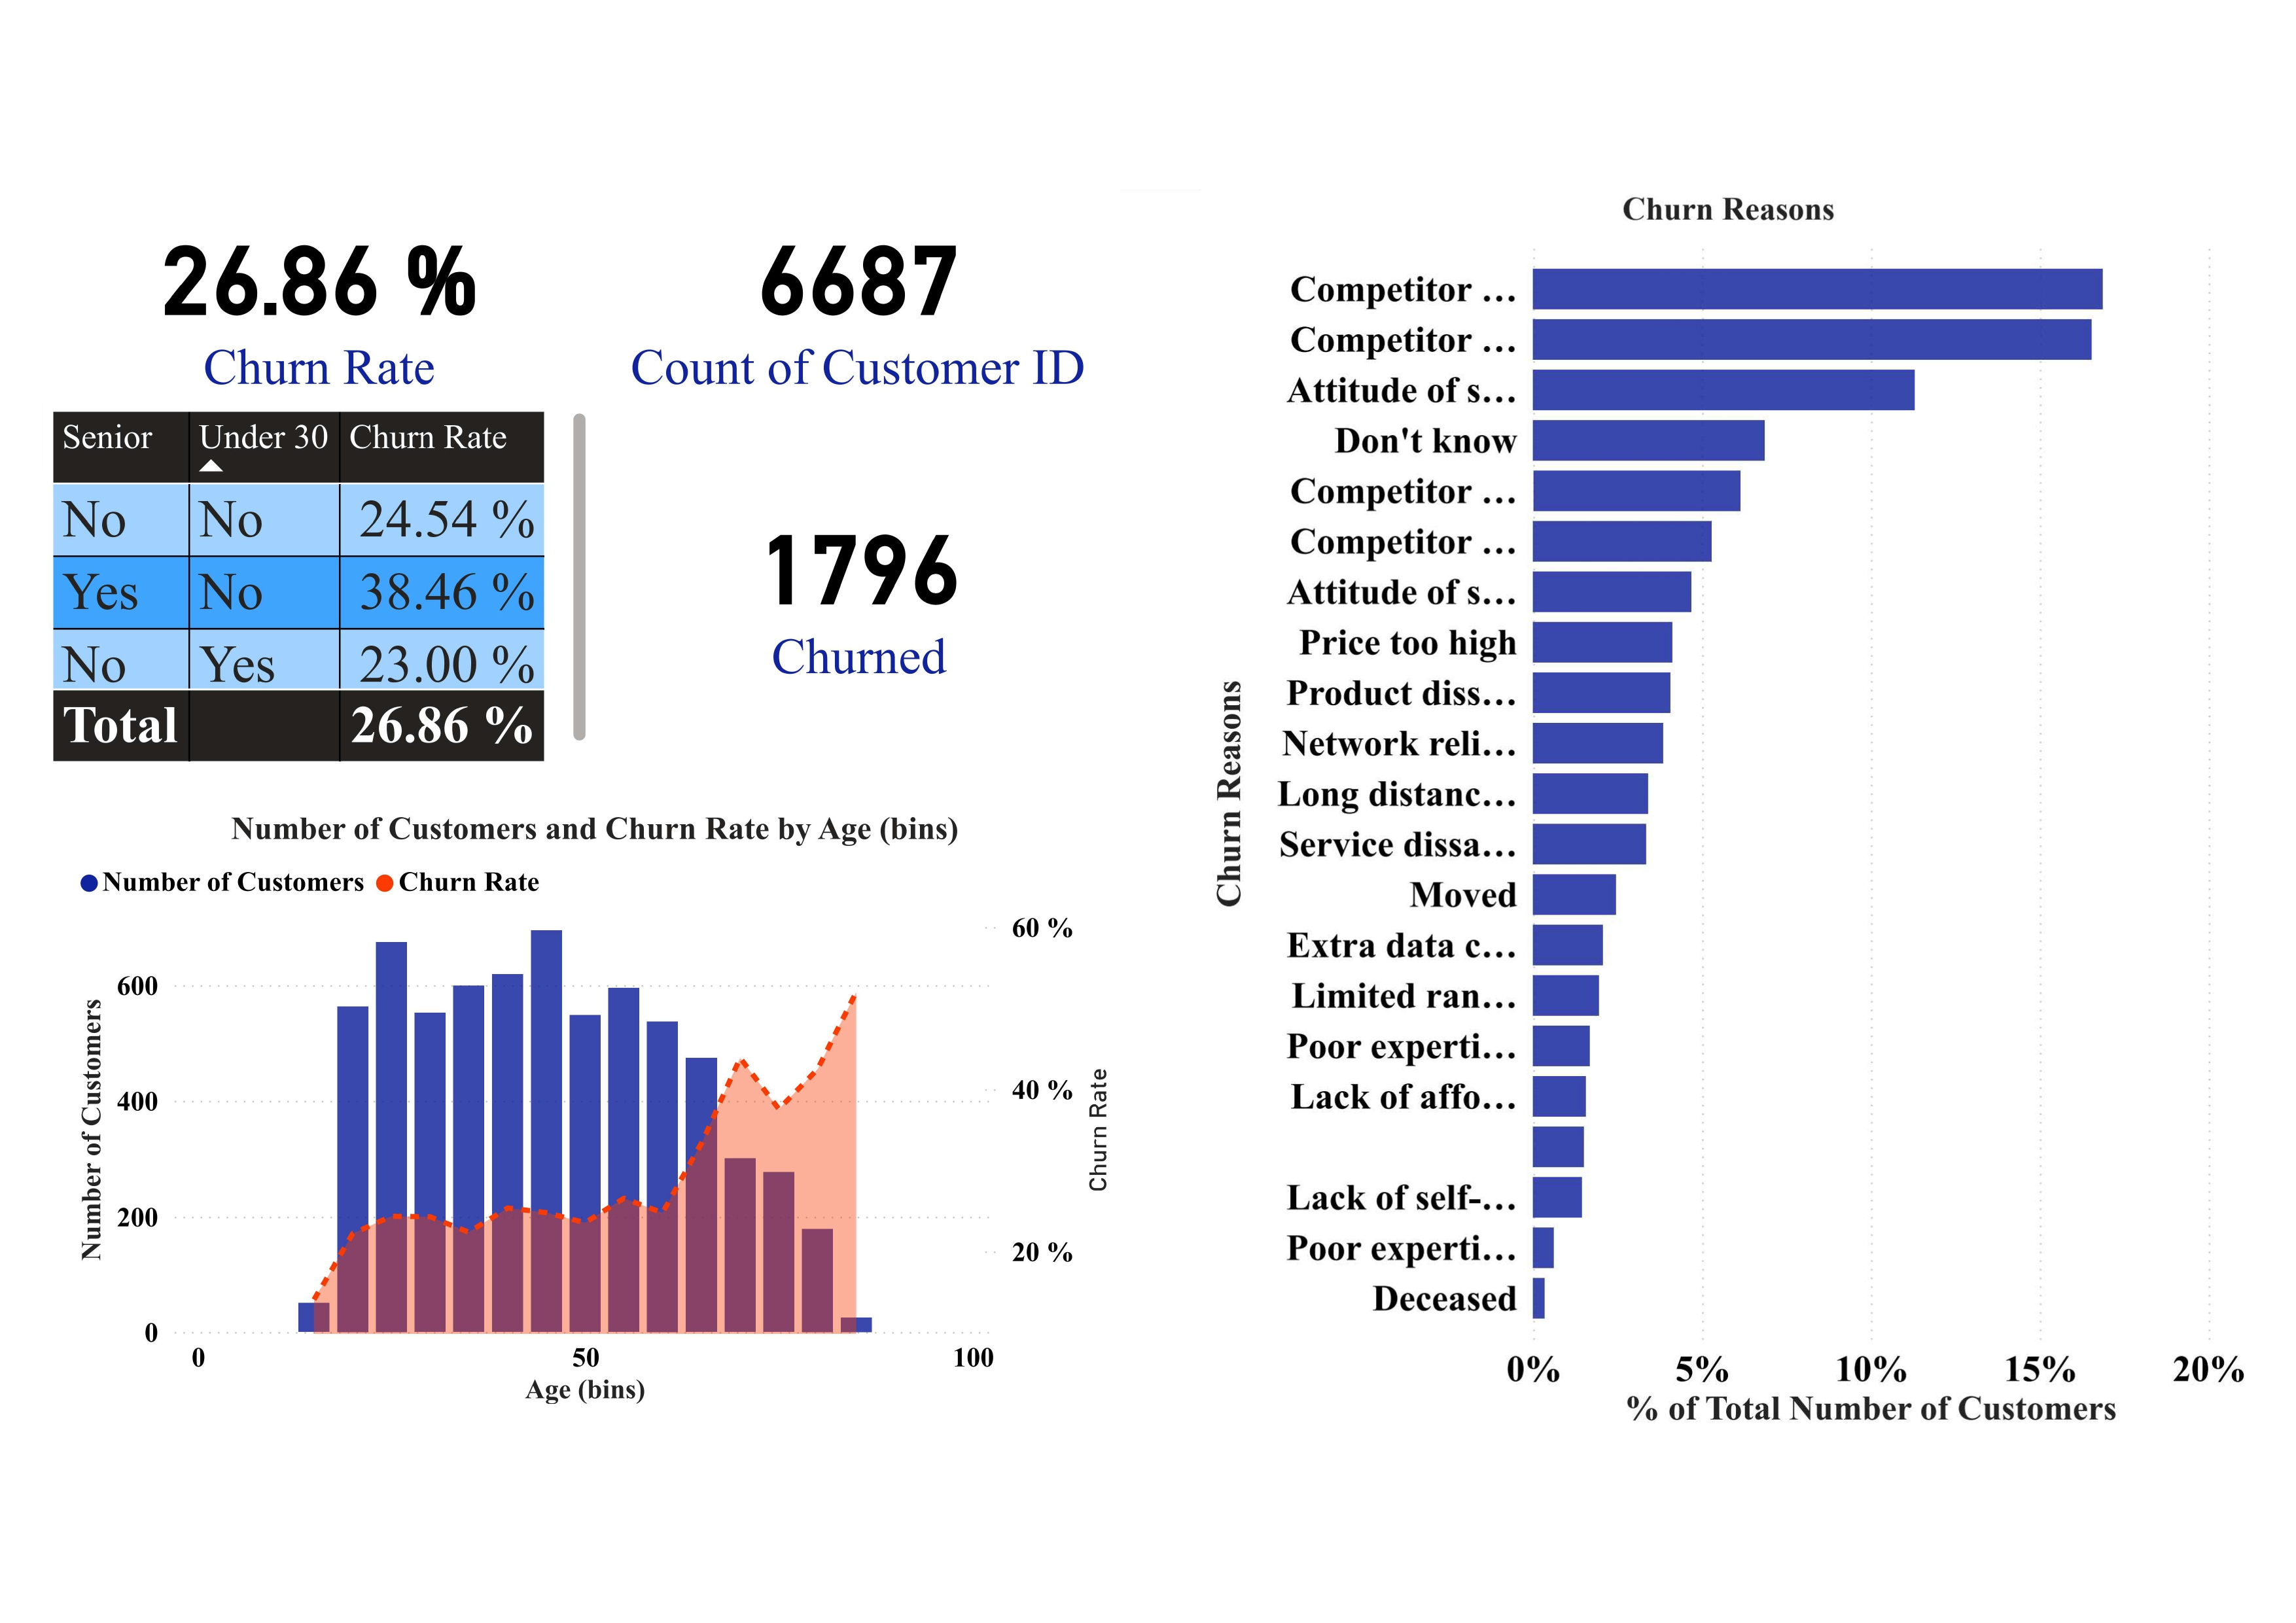

Layout of this report page (visuals, bound fields, positions):
{"tool":"powerbi","page":{"name":"Churn Demographics","canvas":[1280,720],"ordinal":0},"visuals":[{"type":"tableEx","fields":{"Values":["Databel - Data.Senior","Databel - Data.Under 30","Databel - Data.Churn Rate"]},"box":[0,123.3,319.8,211.6],"z":0},{"type":"clusteredBarChart","title":"Churn Reasons","fields":{"Category":["Databel - Data.Churn Reason"],"Y":["CountNonNull(Databel - Data.Number of Customers in Group)"]},"box":[670.9,0,609.3,719.8],"z":1000},{"type":"card","fields":{"Values":["Databel - Data.Churn Rate"]},"box":[0,0,319.8,123.3],"z":2000},{"type":"lineStackedColumnComboChart","fields":{"Category":["Databel - Data.Age (bins)"],"Y":["Databel - Data.Number of costumers"],"Y2":["Databel - Data.Churn Rate"]},"box":[15.1,358.1,608.1,348.8],"z":3000},{"type":"card","fields":{"Values":["Count(Databel - Data.Customer ID)"]},"box":[319.8,0,303.5,123.3],"z":4000},{"type":"card","fields":{"Values":["Sum(Databel - Data.Churned)"]},"box":[343,167.4,258.1,123.3],"z":5000}]}

Visuals, with their boxes on the page's 1280x720 design canvas (x1, y1, x2, y2). These are canvas units, not pixel positions in the 2296x1623 screenshot, which may show the page scaled, cropped or inside an application window:
tableEx - Databel - Data.Senior x Databel - Data.Under 30: pyautogui.locateOnScreen(0, 123, 320, 335)
"Churn Reasons" clusteredBarChart: pyautogui.locateOnScreen(671, 0, 1280, 720)
card - Databel - Data.Churn Rate: pyautogui.locateOnScreen(0, 0, 320, 123)
lineStackedColumnComboChart - Databel - Data.Age (bins) x Databel - Data.Number of costumers: pyautogui.locateOnScreen(15, 358, 623, 707)
card - Count(Databel - Data.Customer ID): pyautogui.locateOnScreen(320, 0, 623, 123)
card - Sum(Databel - Data.Churned): pyautogui.locateOnScreen(343, 167, 601, 291)
